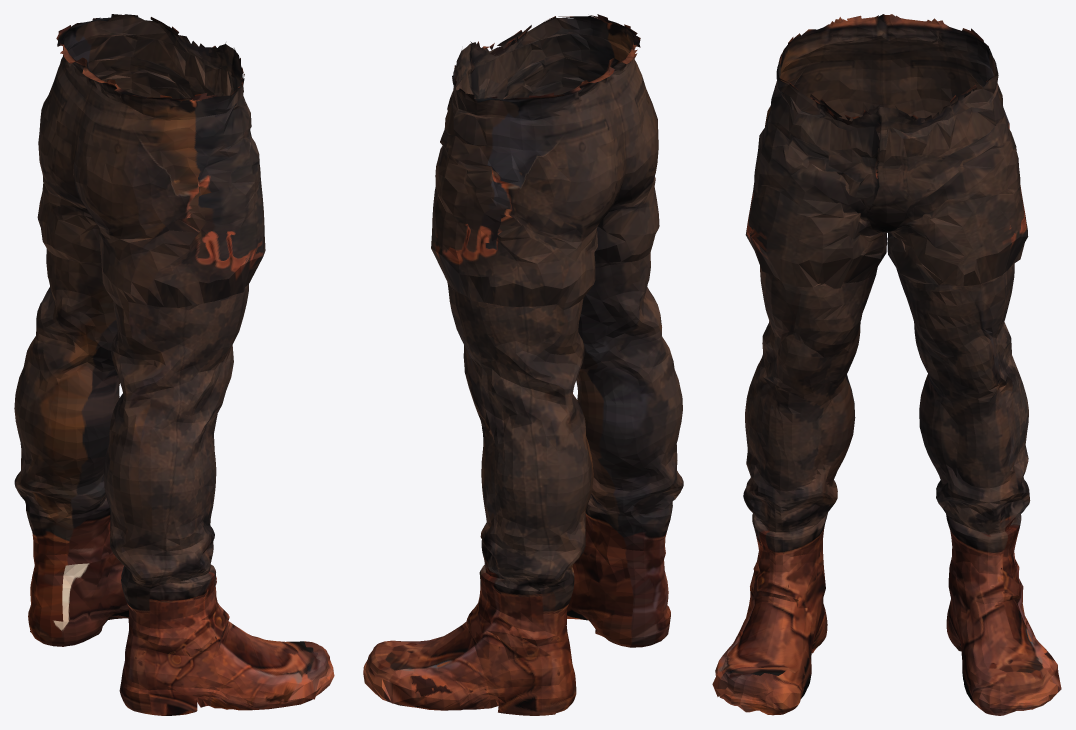
File: bold_cowboy_under_trousers.glb
3 views of the same model, side by side, from view 1: azimuth 30°, elevation 25°; view 2: azimuth 150°, elevation 25°; view 3: azimuth 270°, elevation 25° (orthographic).
Parts seen in each view (by area): view 1: trousers; view 2: trousers; view 3: trousers.
Boxes of the visible parts, x1,y1,x2,y2 form: trousers: (14, 14, 334, 715); trousers: (363, 14, 683, 715); trousers: (712, 14, 1061, 715).
Size of the model in its own units: 0.2155 by 0.6241 by 0.3192.
Materials: 1 (1 with a texture image).
